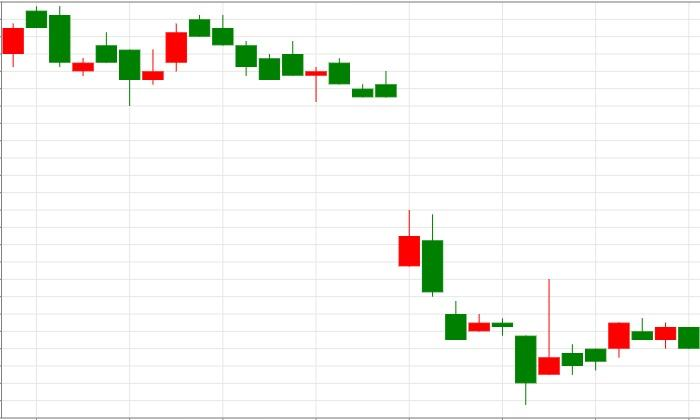inverse_hammer_rise: (329, 58, 561, 405)
